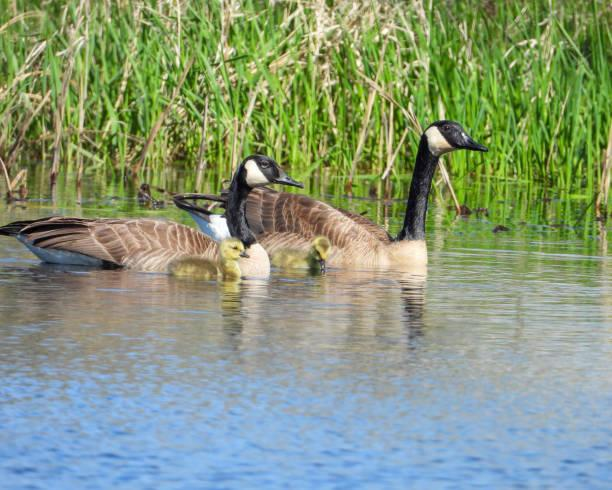Canadian-Goose: (202, 115, 483, 288), (5, 156, 283, 291), (174, 240, 248, 283), (273, 235, 332, 274)
